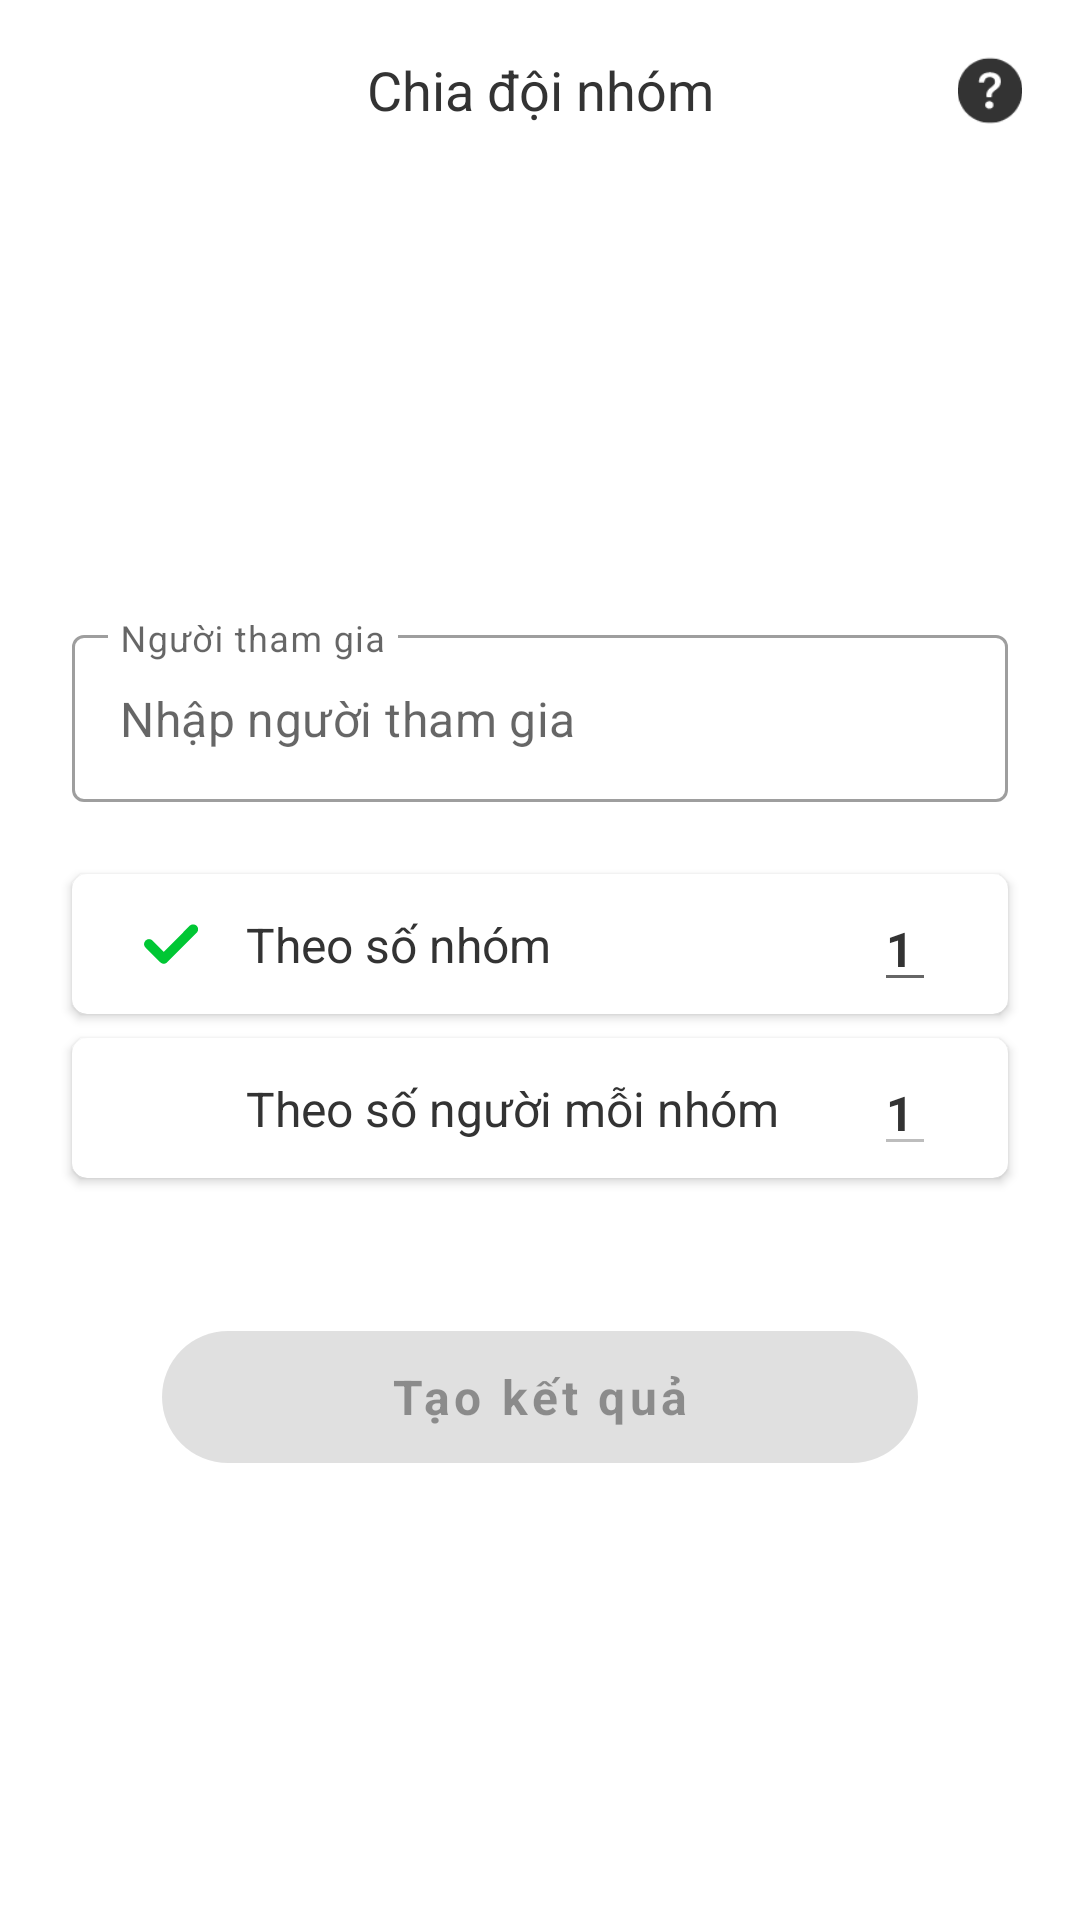

Point at icon controls on the screen. Image size 1080x1920, points as (x=x, y=y).
check: (x=171, y=944)
